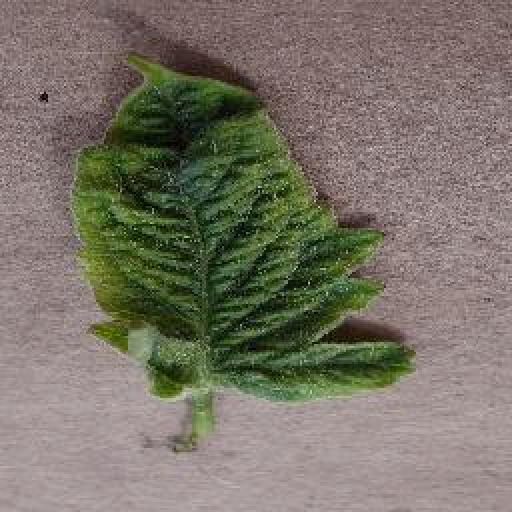disease_tomato: (70, 46, 418, 406)
